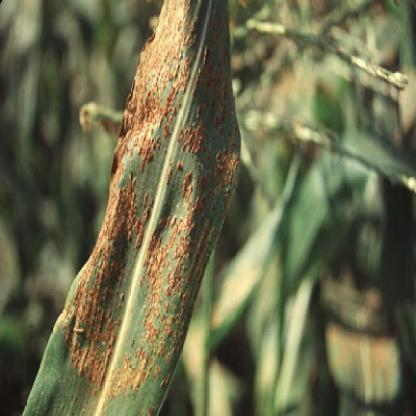corn rust leaf: (43, 2, 252, 414)
